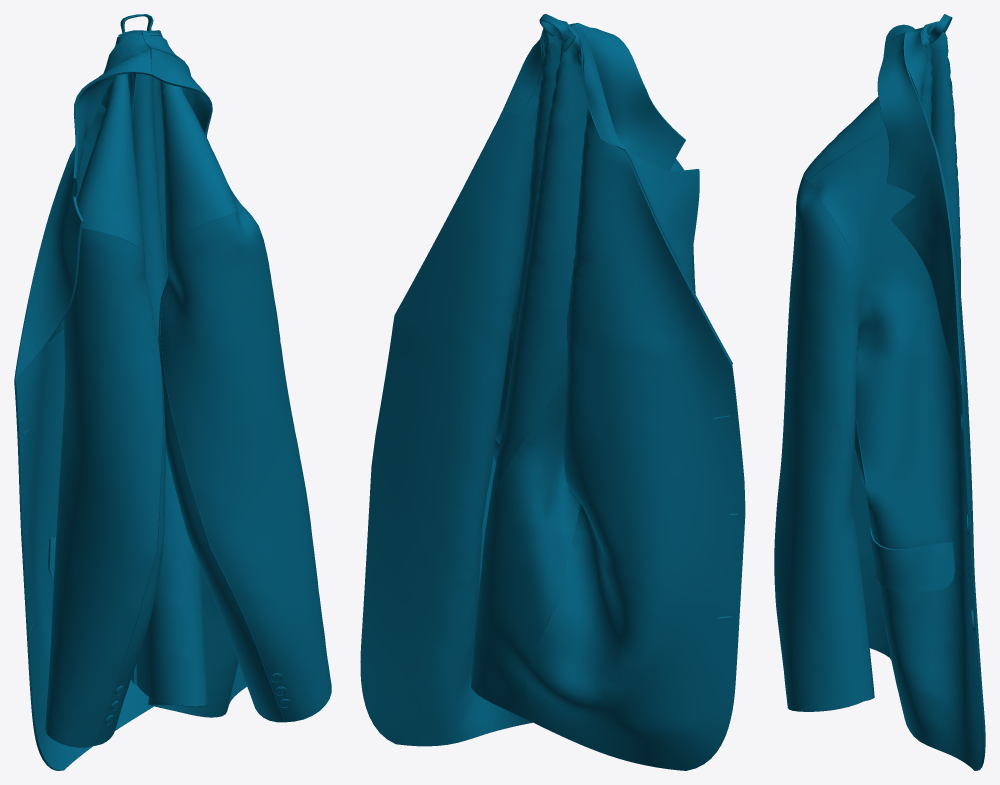
File: jacket03.fbx
3 renders of one model, left to right at view 1: azimuth 30°, elevation 25°; view 2: azimuth 150°, elevation 25°; view 3: azimuth 270°, elevation 25°, orthographic. The views are drawn at different scales.
Visible parts, largest first — view 1: jacket; view 2: jacket; view 3: jacket.
Boxes of the visible parts, x1,y1,x2,y2 form: jacket: (14,14,331,770); jacket: (360,14,745,770); jacket: (774,14,985,770).
Size of the model in its own units: 38.12 by 83.24 by 23.02.
